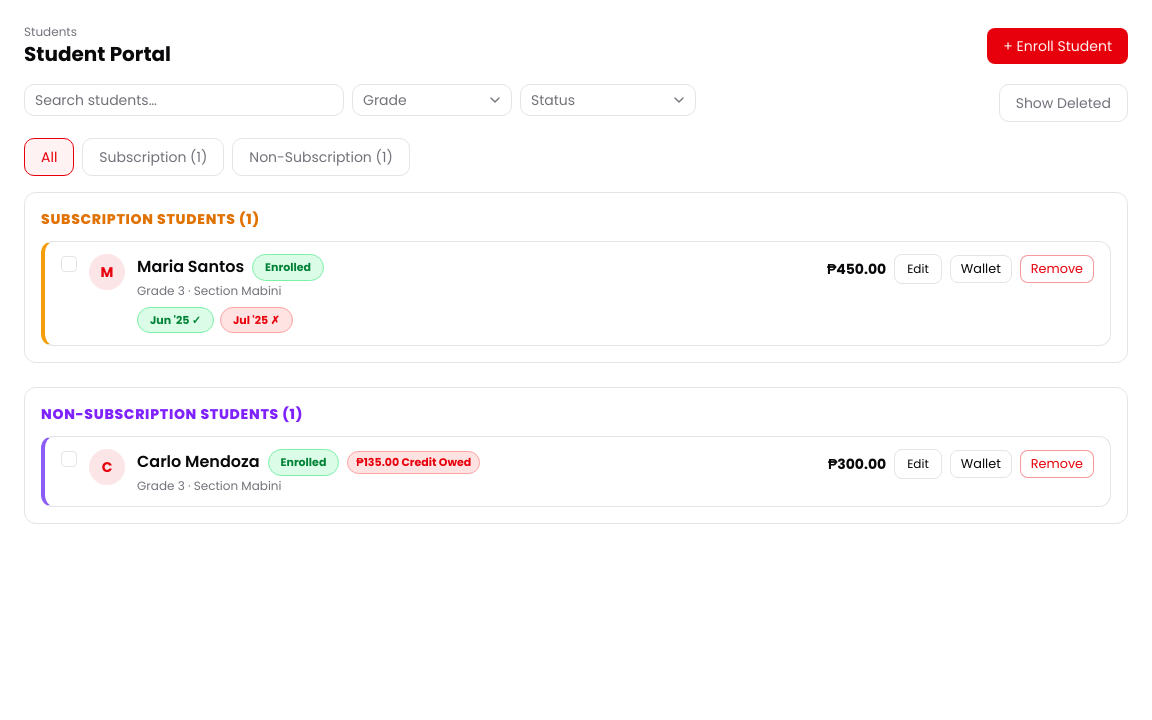
it: StudentsPage › selects a student and shows floating bar
Expected: the text "Maria Santos" is shown, x1=137 y1=255 x2=244 y2=279
Click the checkbox named "Select Maria Santos": click(69, 264) x1=61 y1=256 x2=77 y2=272
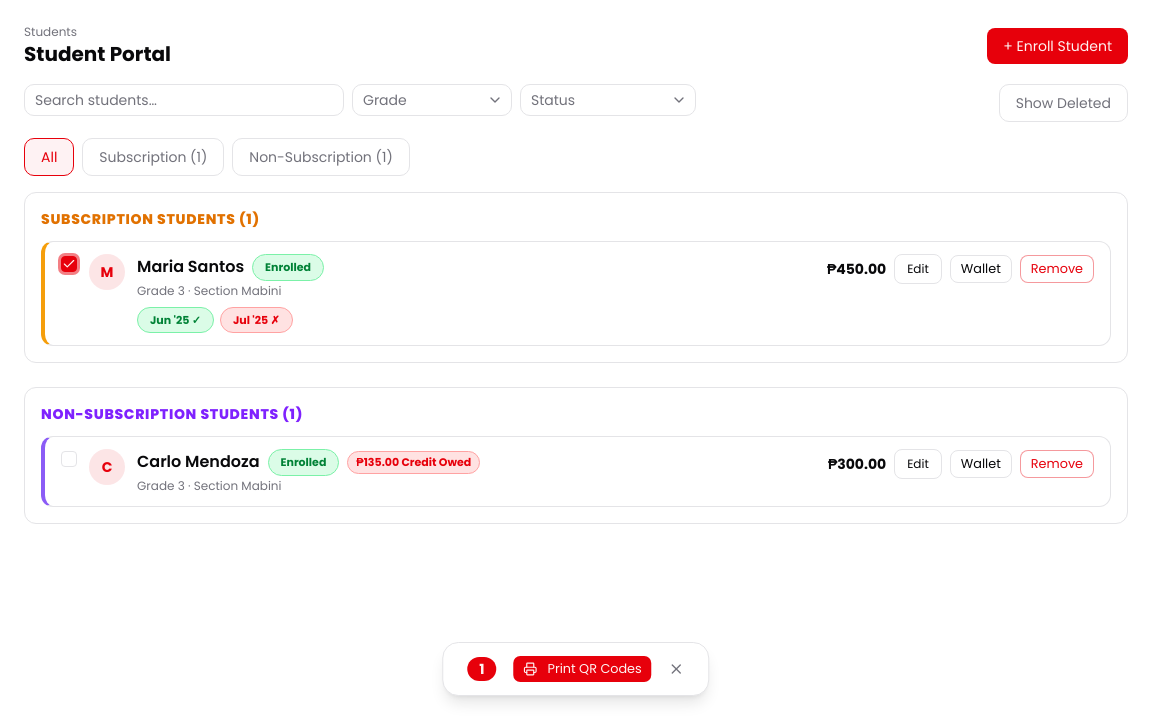
Expected: the button "Print QR Codes" is shown, x1=512 y1=655 x2=653 y2=683
